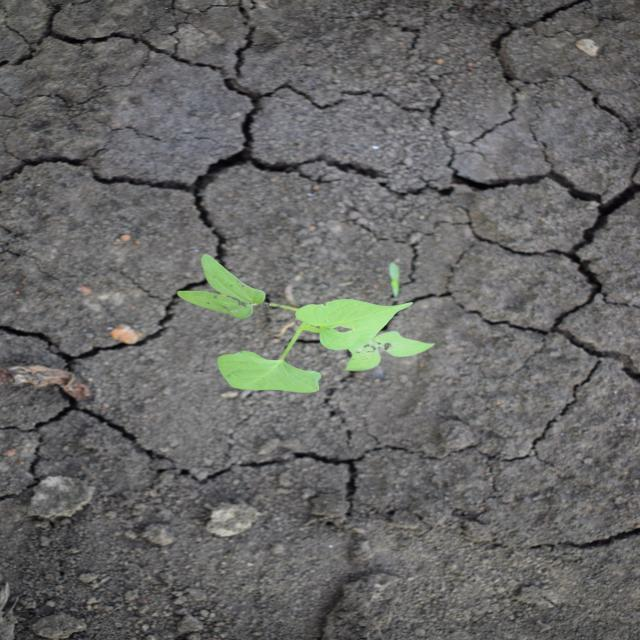MorningGlory: (174, 252, 439, 395)
